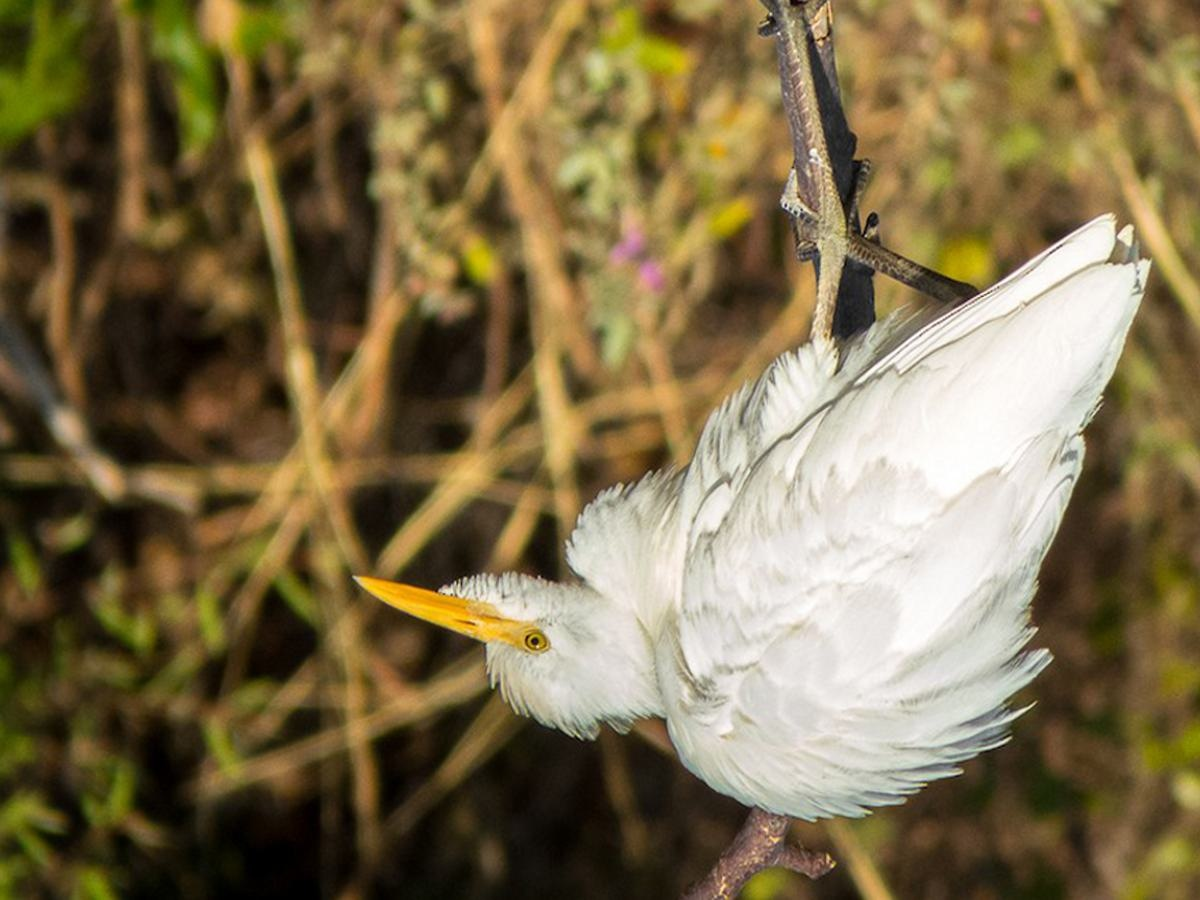egret: (333, 12, 1166, 832)
